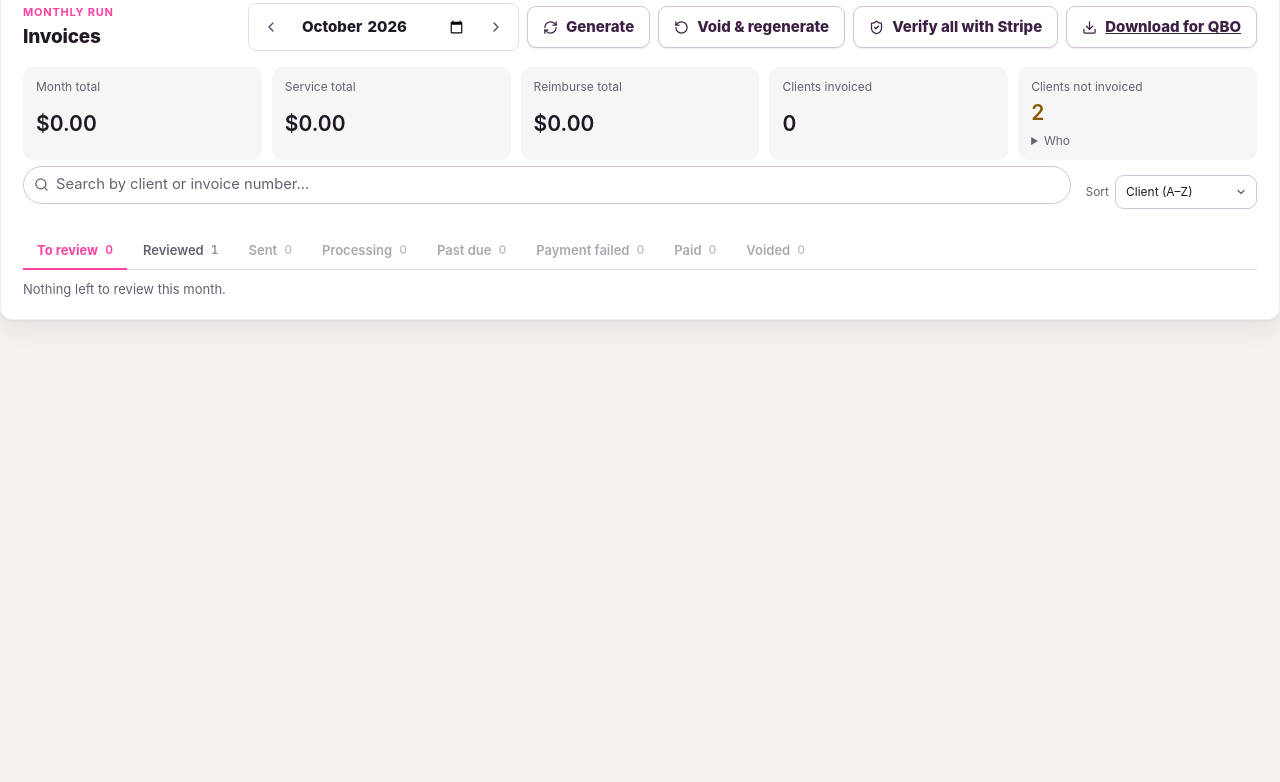
Send to other addresses... opens the picker › for a client with NO address, where Send is dead
Click the tab "Reviewed 1" at (181, 251), box [129,232,232,270]
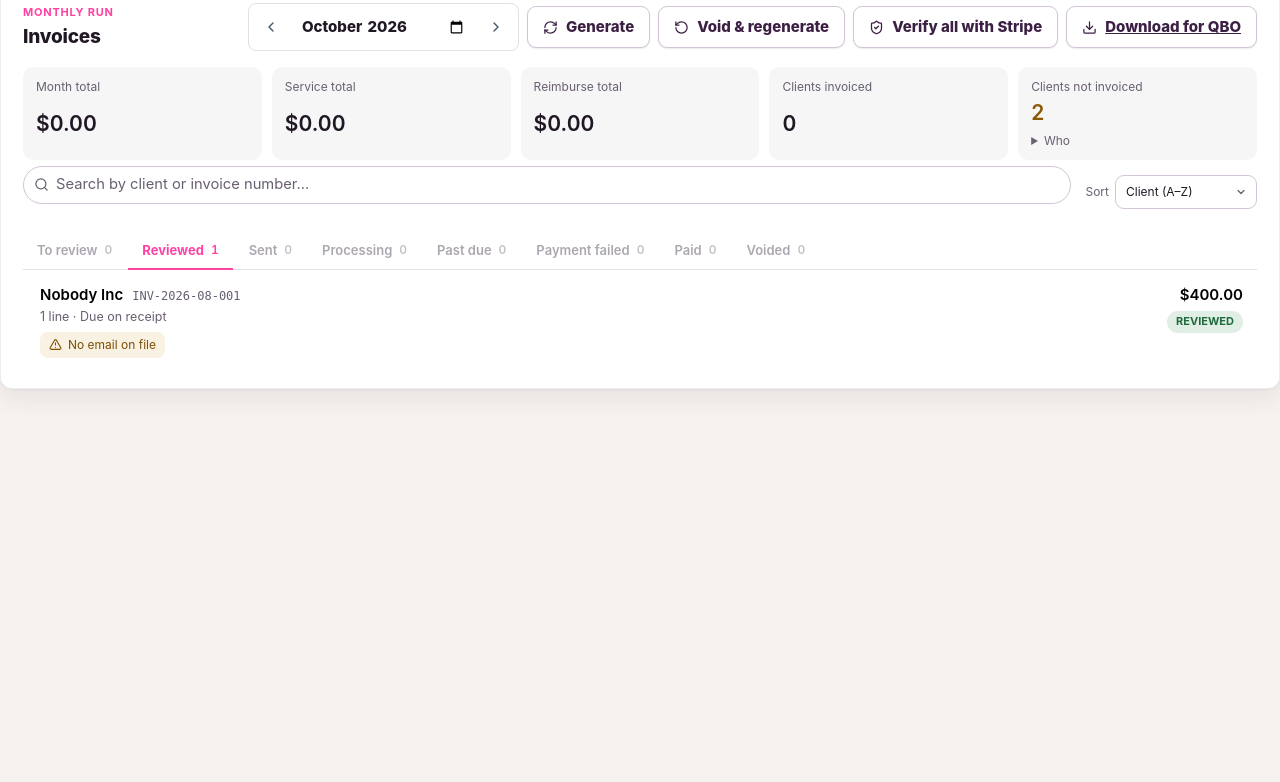
Click the text "INV-2026-08-001" at (186, 297), box [132,288,241,306]
(page scrolled)
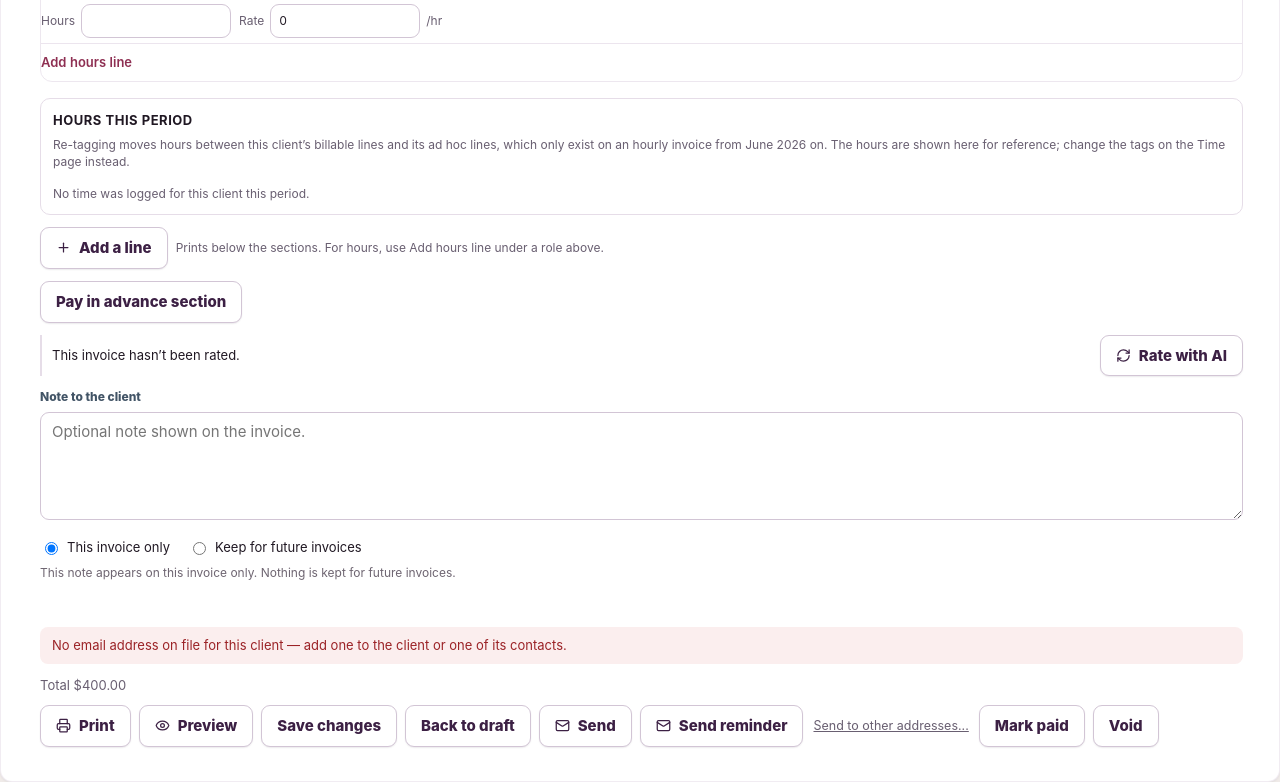
Expected: the button "Send" is disabled, [539,705,632,747]
Click the button "Send to other addresses..." at (891, 726), box [812,705,971,747]
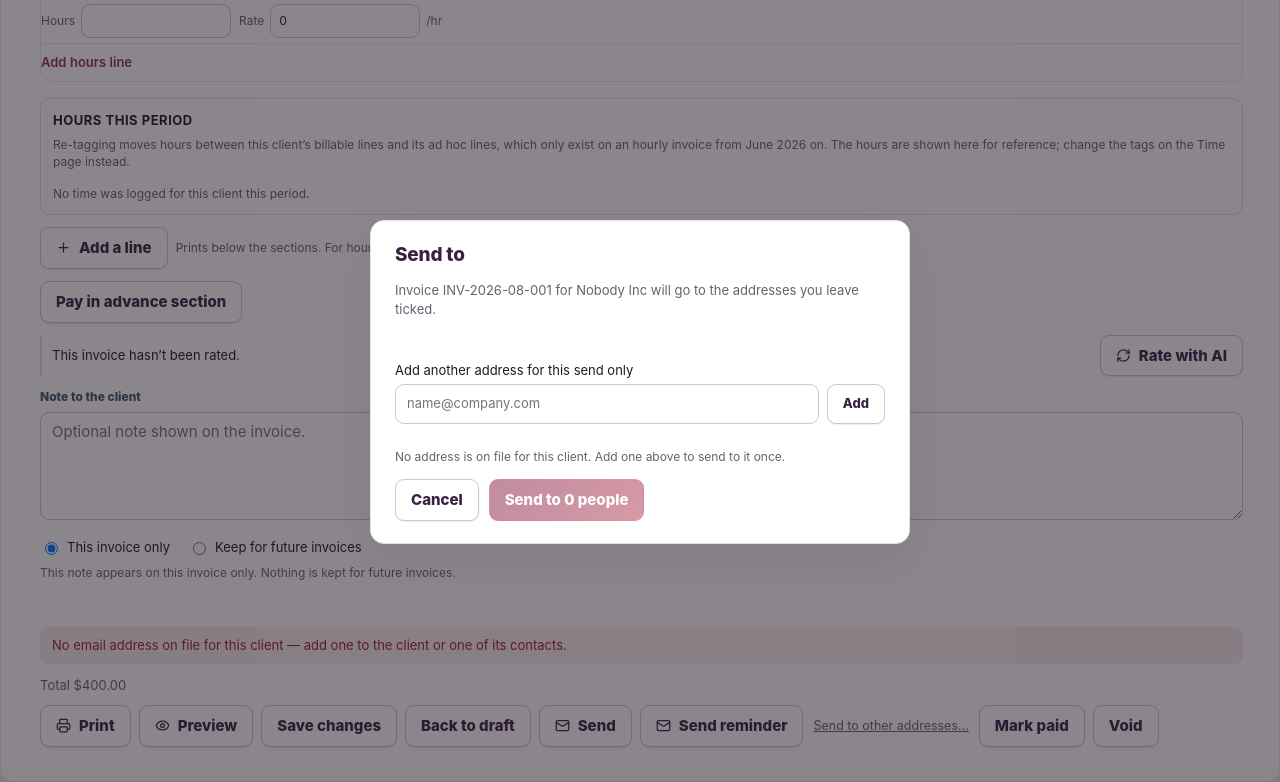
Expected: the text "No address is on file for this client" is shown, [395,449,785,464]
Expected: the button "Send to 0 people" is disabled, [489,479,644,521]
